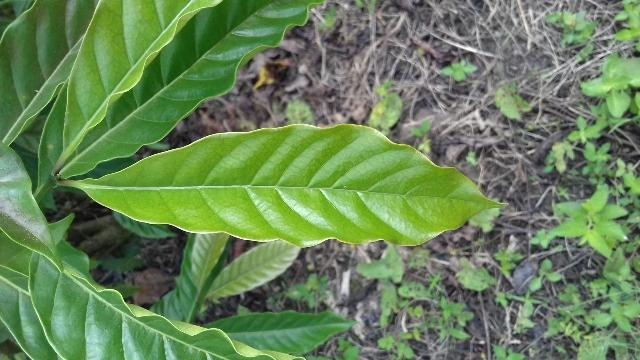healthy: (60, 124, 508, 247)
